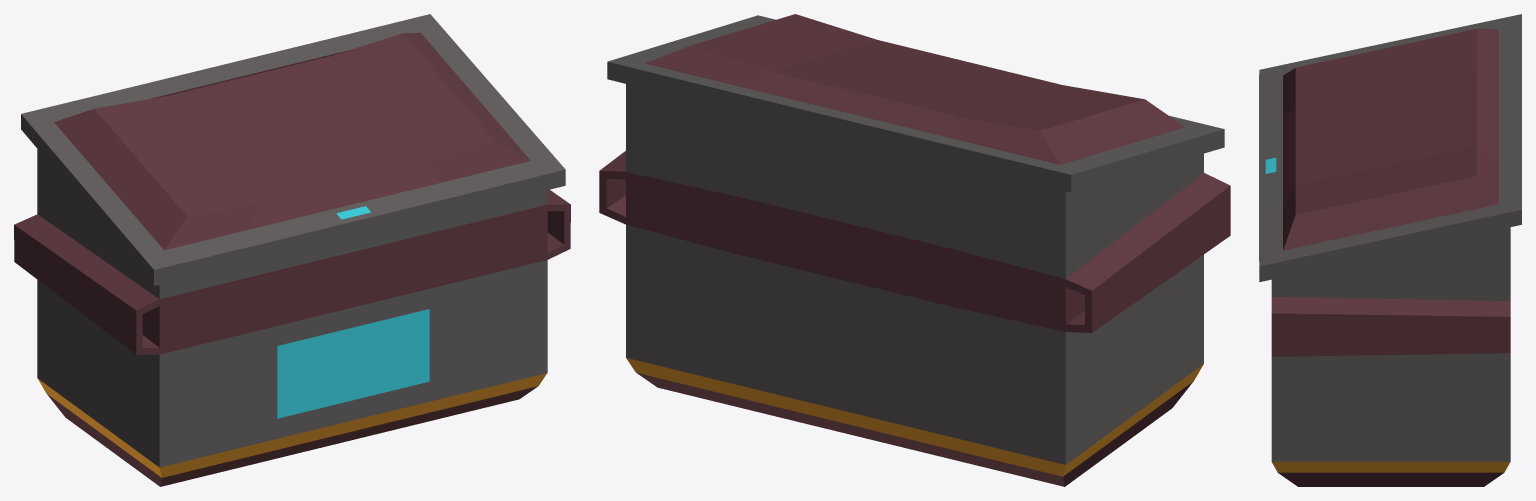
The model's file is scifi-dumpster.fbx.
The picture shows the model from 3 angles, left to right: view 1: azimuth 30°, elevation 25°; view 2: azimuth 150°, elevation 25°; view 3: azimuth 270°, elevation 25°; orthographic projection. The views are drawn at different scales.
Visible parts, largest first — view 1: scifi-dumpster; view 2: scifi-dumpster; view 3: scifi-dumpster.
Boxes of the visible parts, x1,y1,x2,y2 form: scifi-dumpster: (14, 14, 570, 486); scifi-dumpster: (599, 14, 1230, 486); scifi-dumpster: (1259, 14, 1521, 486).
Size of the model in its own units: 2.05 by 1.38 by 1.1.
